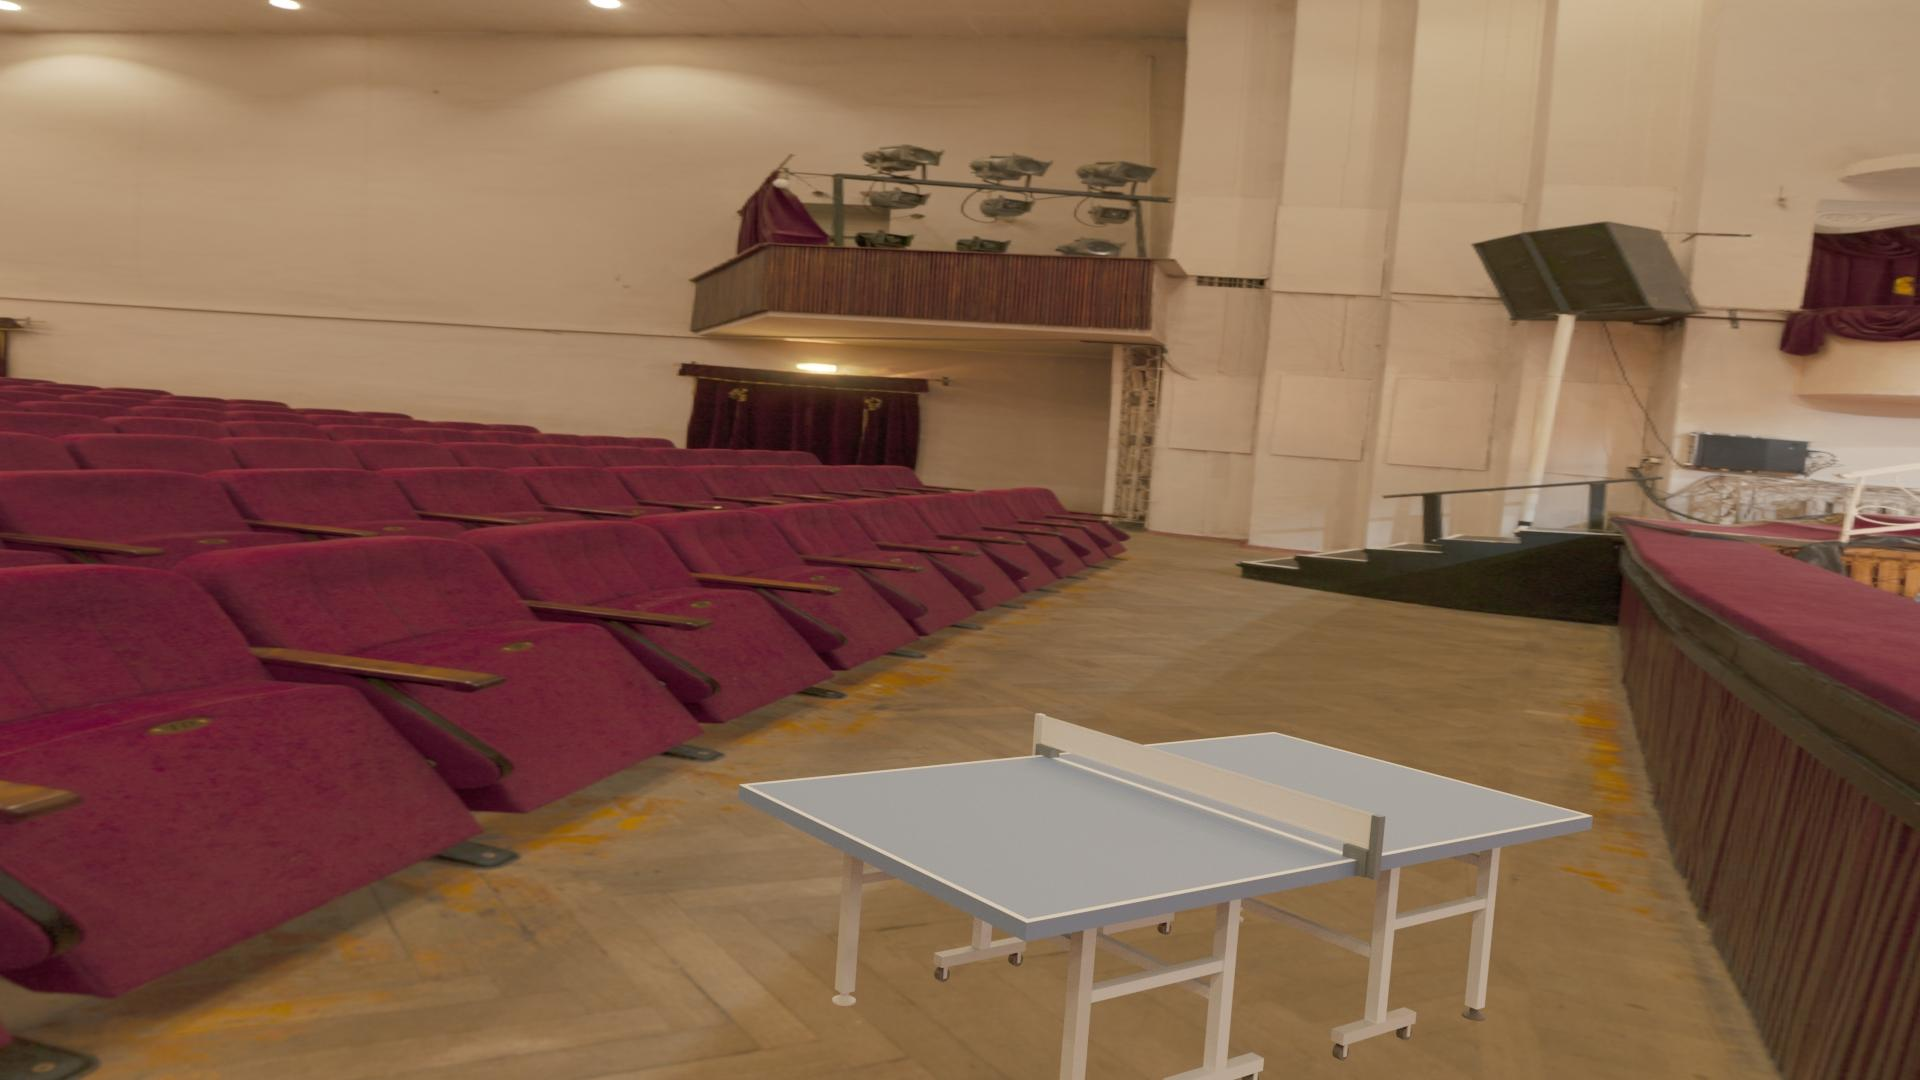table: (748, 733, 1585, 919)
